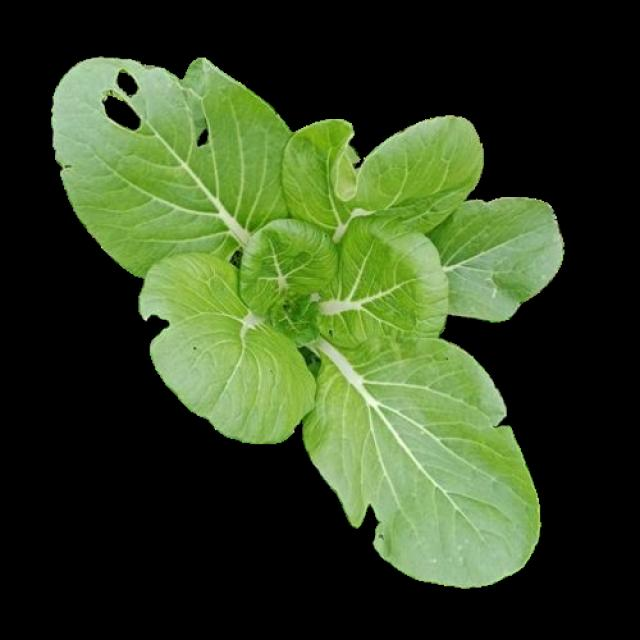mature: (49, 58, 562, 580)
unhealthy: (304, 330, 536, 580), (49, 60, 298, 273)
